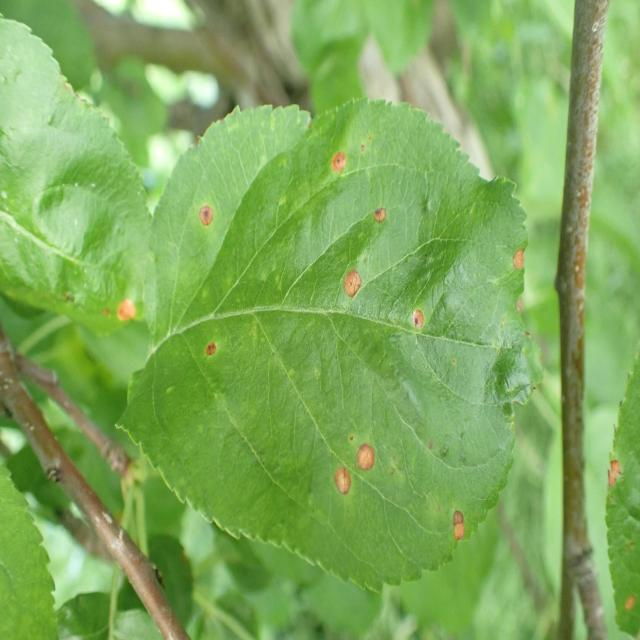Black Rot: (348, 419, 406, 501), (315, 436, 360, 523), (592, 428, 632, 509), (439, 496, 475, 557), (101, 291, 142, 335), (193, 191, 230, 239), (319, 143, 355, 190), (194, 331, 227, 373), (335, 268, 369, 308), (408, 303, 436, 350), (509, 241, 532, 275), (363, 197, 389, 225)
